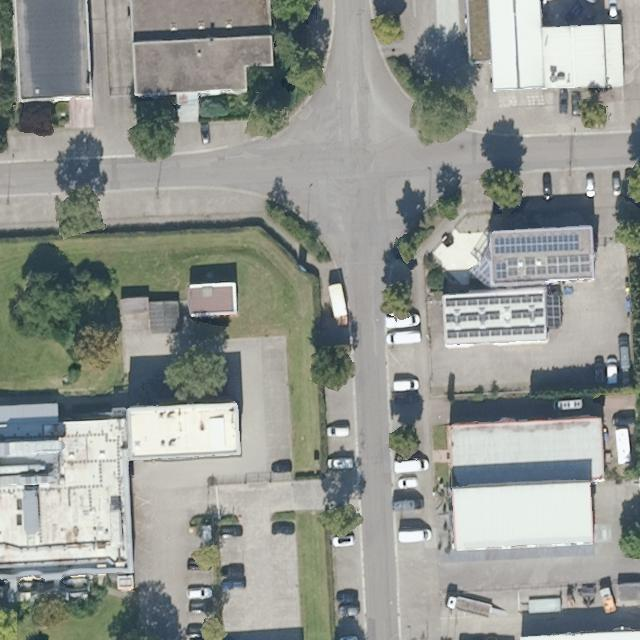PV: (492, 250, 593, 285), (442, 305, 546, 327), (491, 232, 582, 257), (442, 291, 543, 309), (443, 323, 547, 340)
